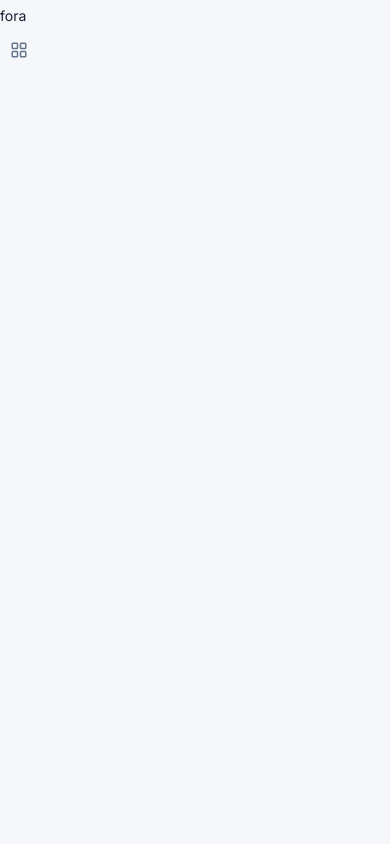
Test case: MenuDeFerramentas — busca › oferece limpar quando não encontra nada
Click the button named "Todas as ferramentas" at (19, 50), box [0,32,38,68]
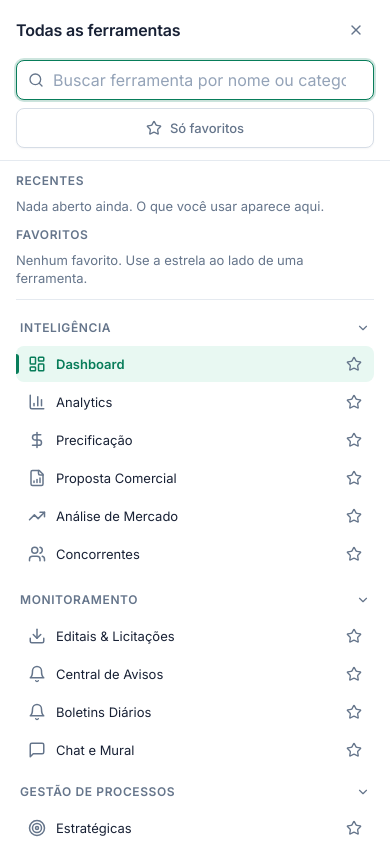
Type "zzzznaoexiste" into the search field labelled "Buscar ferramenta" at (195, 80), box [16,60,374,100]
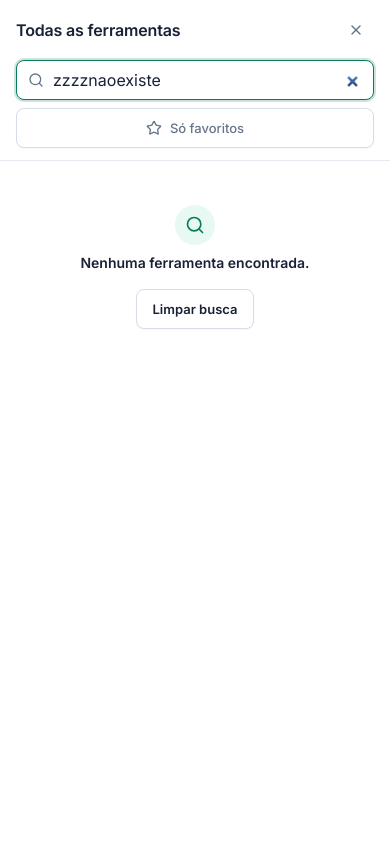
Check: the text "Nenhuma ferramenta encontrada." is shown, box [80,253,310,273]
Click the button "Limpar busca" at (195, 309), box [136,289,254,329]
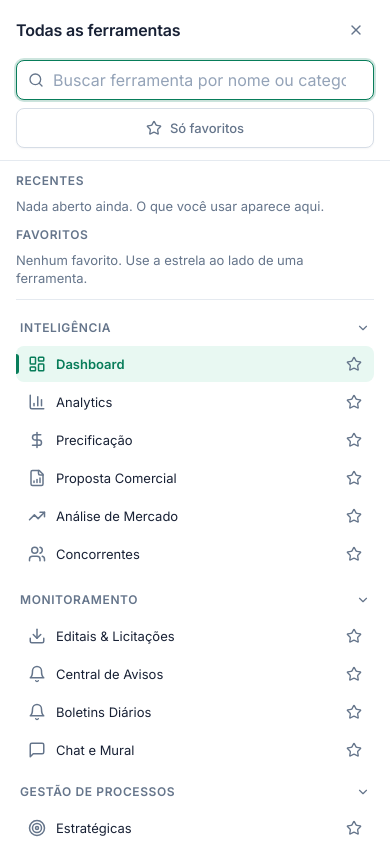
Check: the text "Nenhuma ferramenta encontrada." is gone
Check: the button "Inteligência" is shown, box [16,312,374,344]
